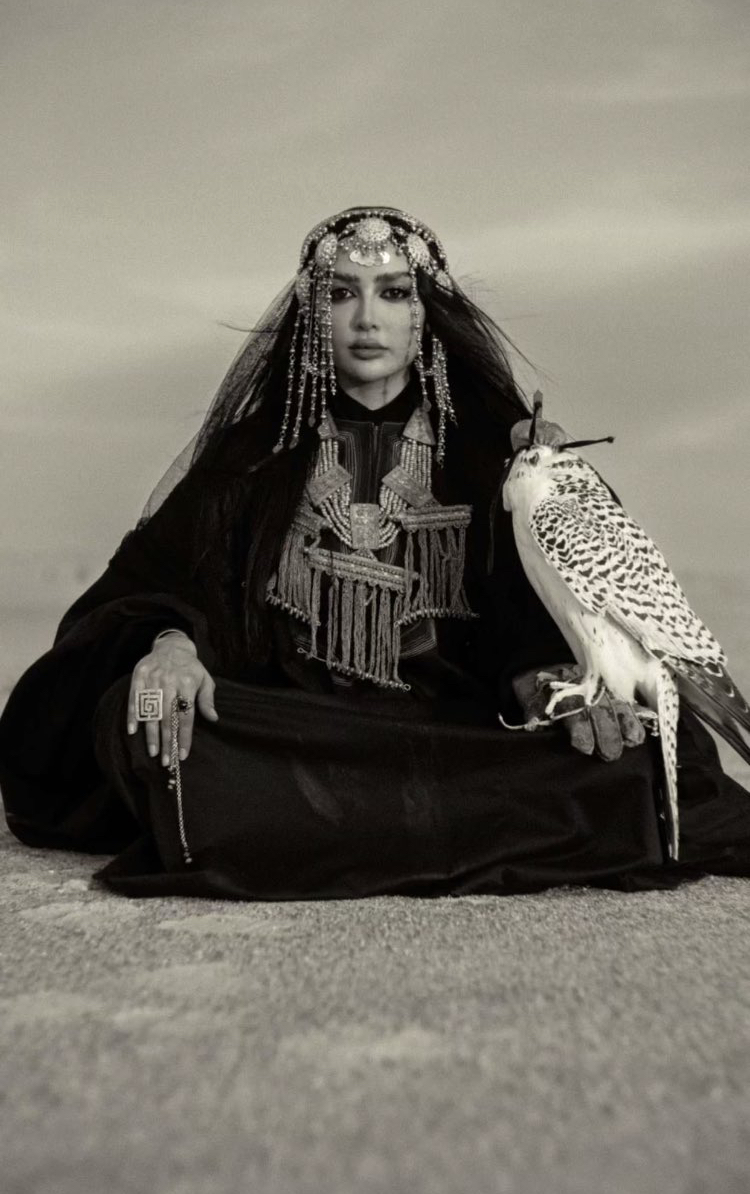Saudi_Founding_Day: (3, 200, 750, 913)
